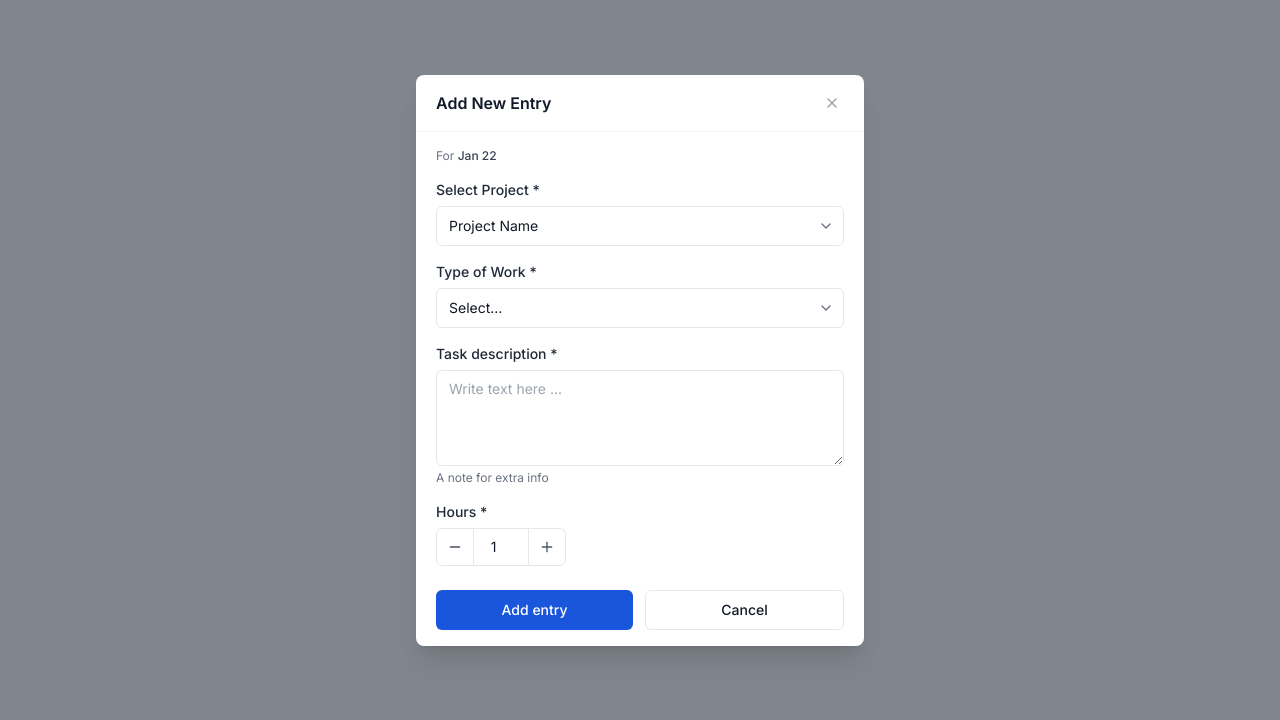
Scenario: AddEntryModal › blocks submit when required fields are missing and surfaces errors
Click the button "Add entry" at (534, 610), box [436, 590, 633, 630]
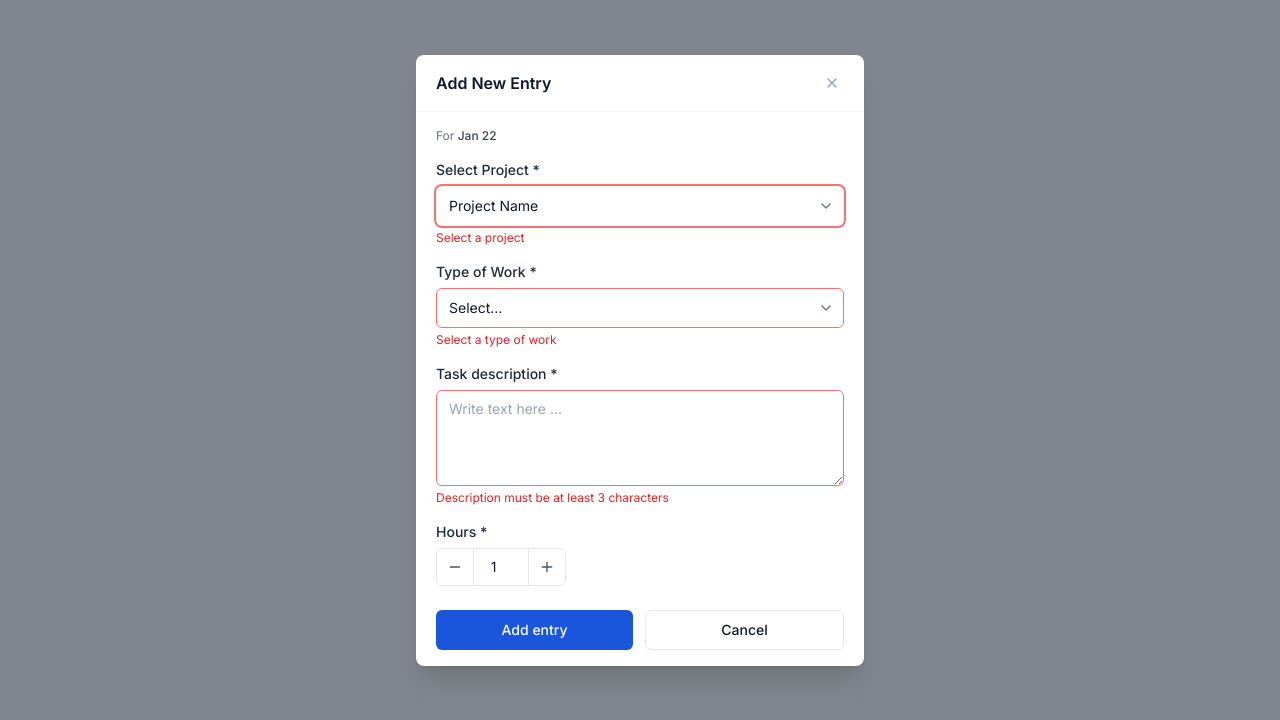
Check: the text "Select a project" is shown, box [436, 230, 524, 244]
Check: the text "Select a type of work" is shown, box [436, 332, 557, 346]
Check: the text "Description must be at least 3 characters" is shown, box [436, 490, 669, 504]
